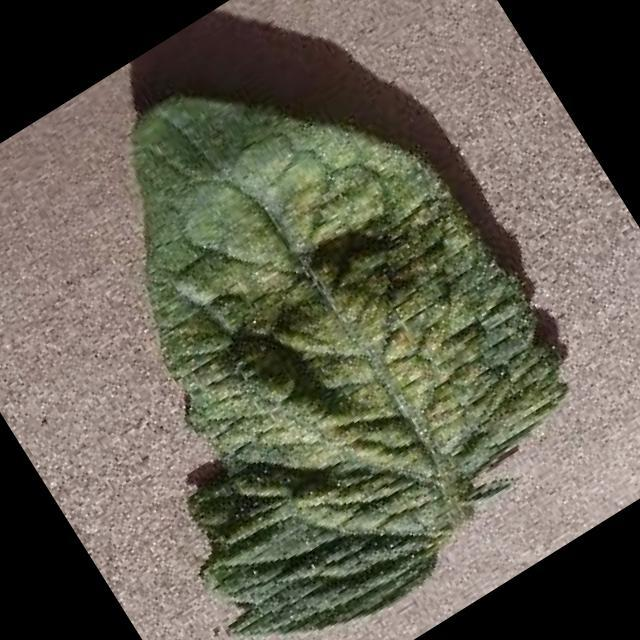Tomato spider mites leaf: (0, 0, 635, 640)
